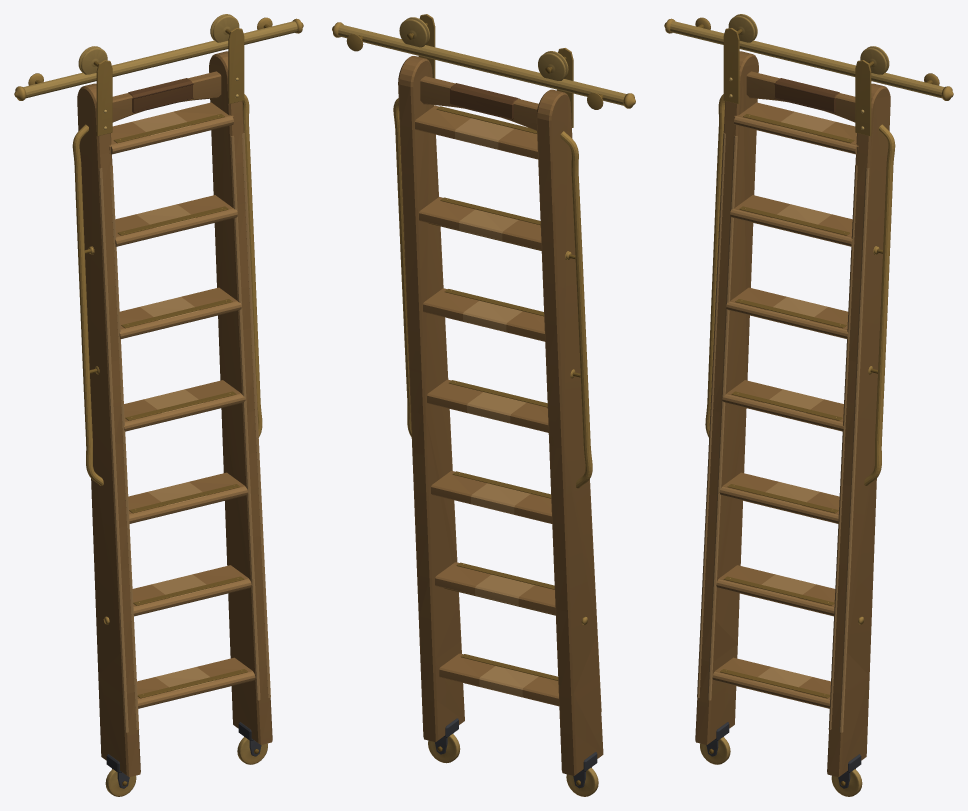
The model's file is rolling-ladder.glb.
3 views of the same model, side by side, from view 1: azimuth 30°, elevation 25°; view 2: azimuth 150°, elevation 25°; view 3: azimuth 330°, elevation 25° (orthographic). The views are drawn at different scales.
Parts seen in each view (by area): view 1: rolling_ladder; view 2: rolling_ladder; view 3: rolling_ladder.
Part boxes in pixels (x1,y1,x2,y2): rolling_ladder: (14,14,303,796); rolling_ladder: (332,14,635,796); rolling_ladder: (664,14,953,796).
Size of the model in its own units: 0.9079 by 2.19 by 0.2799.
